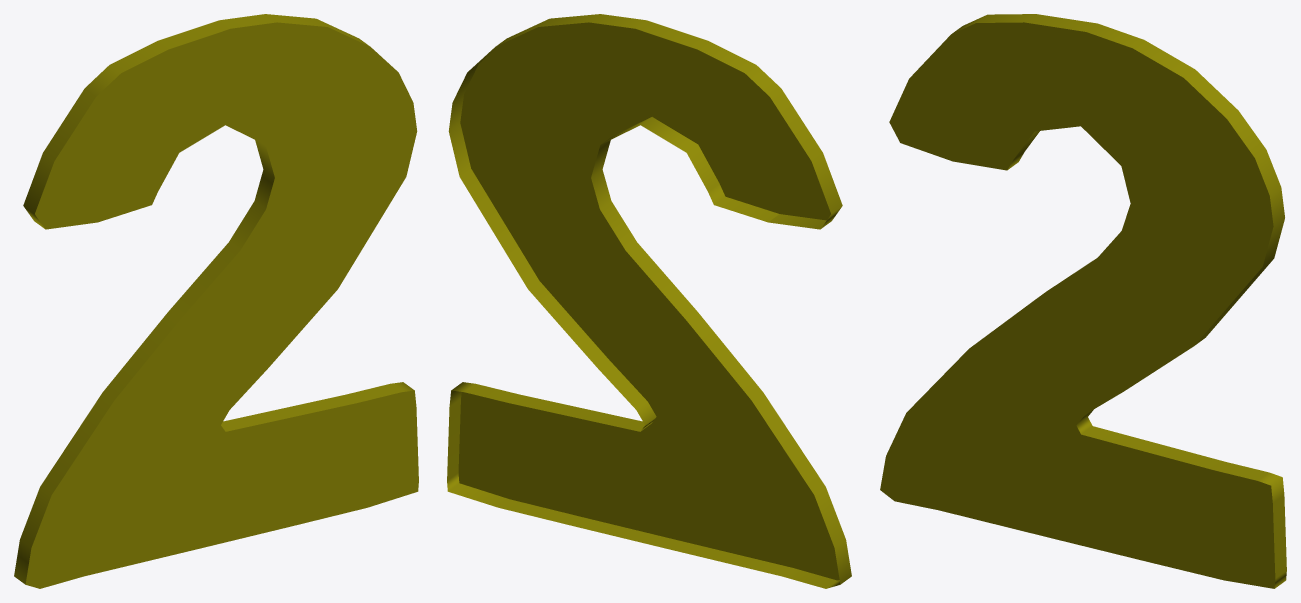
File: Number_2.fbx
The picture shows the model from 3 angles, left to right: view 1: azimuth 30°, elevation 25°; view 2: azimuth 150°, elevation 25°; view 3: azimuth 330°, elevation 25°; orthographic projection.
Parts seen in each view (by area): view 1: Number_2; view 2: Number_2; view 3: Number_2.
Part boxes in pixels (<box>): Number_2: <box>14,14,418,588</box>; Number_2: <box>447,14,851,588</box>; Number_2: <box>880,14,1286,588</box>.
Bounding box in the file's own units: 0.4427 × 0.5523 × 0.0225.
